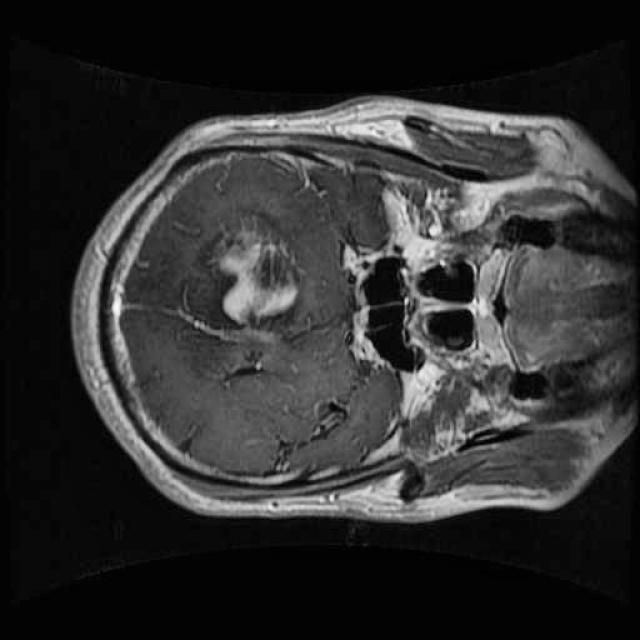Non-Tumor: (189, 195, 319, 342)
